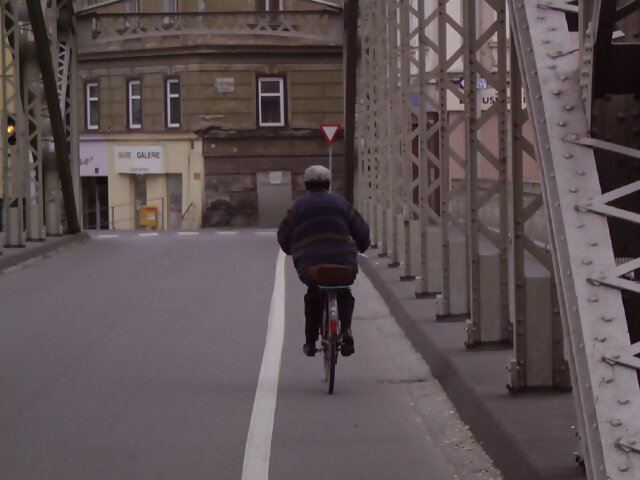person: (276, 161, 376, 358)
